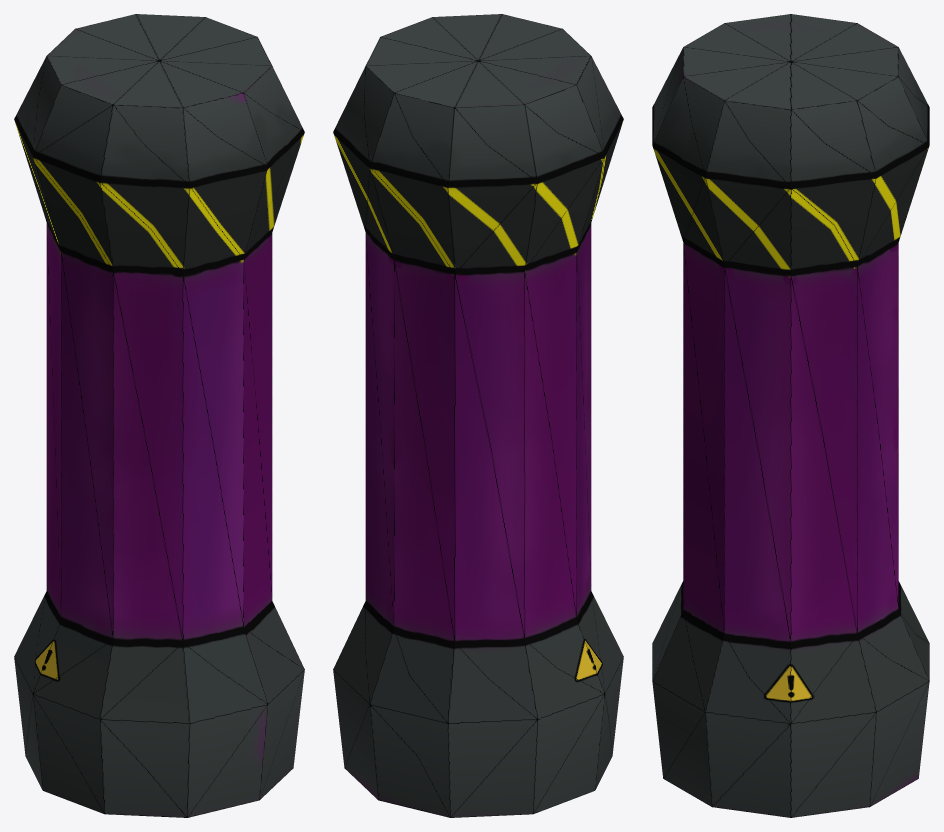
Rendered from Cannister.fbx.
3 renders of one model, left to right at view 1: azimuth 30°, elevation 25°; view 2: azimuth 150°, elevation 25°; view 3: azimuth 270°, elevation 25°, orthographic.
Parts seen in each view (by area): view 1: pCylinder1; view 2: pCylinder1; view 3: pCylinder1.
Part boxes in pixels (left/top/right/bottom): pCylinder1: left=14, top=14, right=304, bottom=817; pCylinder1: left=333, top=14, right=623, bottom=817; pCylinder1: left=652, top=14, right=929, bottom=817.
Bounding box in the file's own units: 3.48 × 9.2 × 3.31.
Materials: 1 (1 with a texture image).
